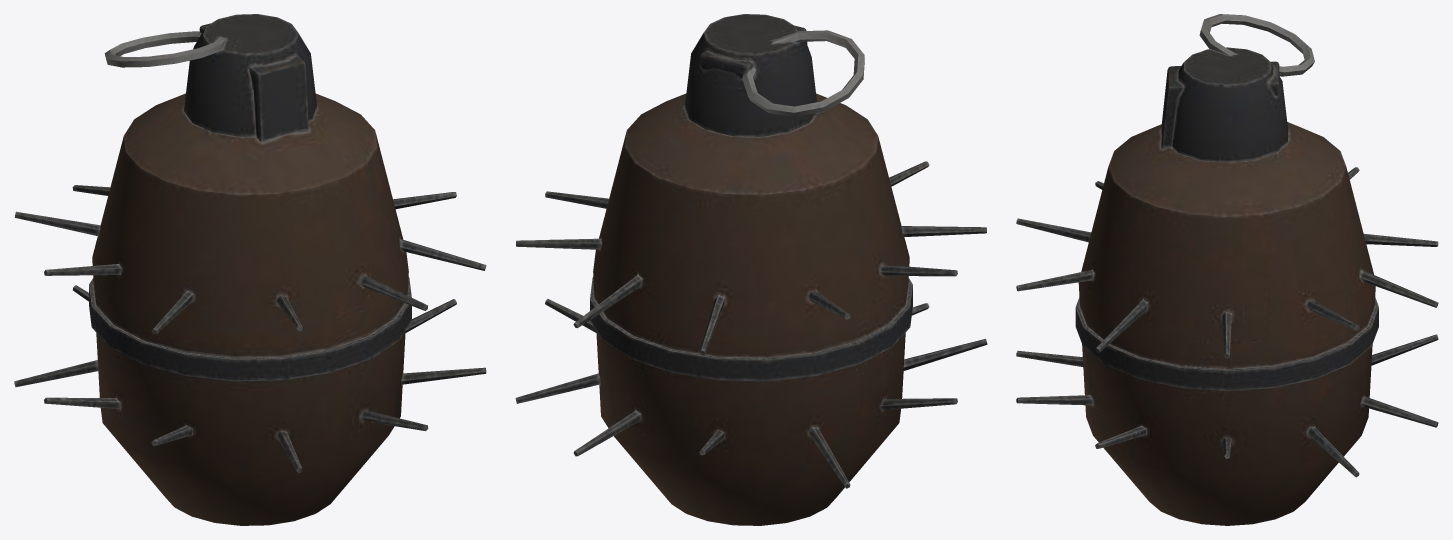
The model's file is gunner_scrap_grenade.glb.
3 renders of one model, left to right at view 1: azimuth 30°, elevation 25°; view 2: azimuth 150°, elevation 25°; view 3: azimuth 270°, elevation 25°, orthographic. The views are drawn at different scales.
Visible parts, largest first — view 1: gunner_scrap_grenade; view 2: gunner_scrap_grenade; view 3: gunner_scrap_grenade.
Part boxes in pixels (x1,y1,x2,y2): gunner_scrap_grenade: [14, 14, 486, 525]; gunner_scrap_grenade: [515, 14, 987, 525]; gunner_scrap_grenade: [1016, 14, 1438, 525].
Bounding box in the file's own units: 0.1002 × 0.1121 × 0.0954.
1 material, 1 textured.
